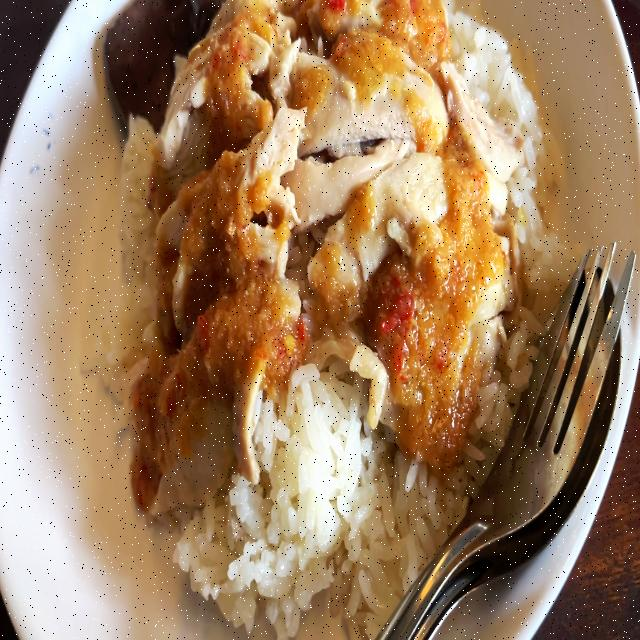boiled_chicken: (168, 14, 469, 428)
boiled_chicken_blood_jelly: (103, 0, 197, 106)
chicken_rice: (84, 20, 572, 619)
